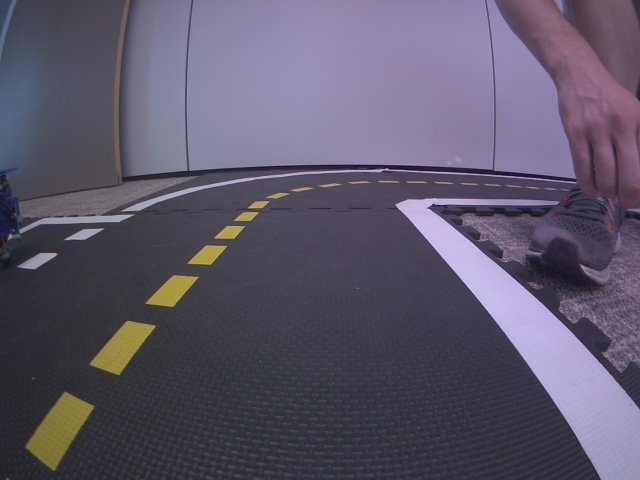Bot: (0, 164, 24, 262)
occupiedSlot: (0, 214, 134, 291)
